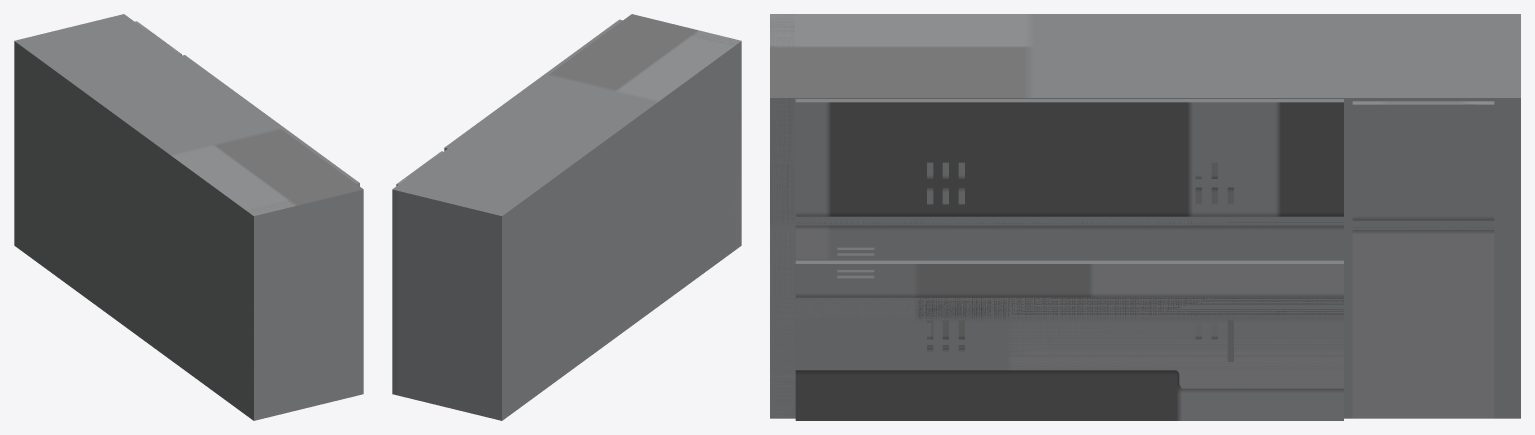
The picture shows the model from 3 angles, left to right: view 1: azimuth 30°, elevation 25°; view 2: azimuth 150°, elevation 25°; view 3: azimuth 270°, elevation 25°; orthographic projection. The views are drawn at different scales.
Bounding box in the file's own units: 0.6005 × 1 × 2.12.
